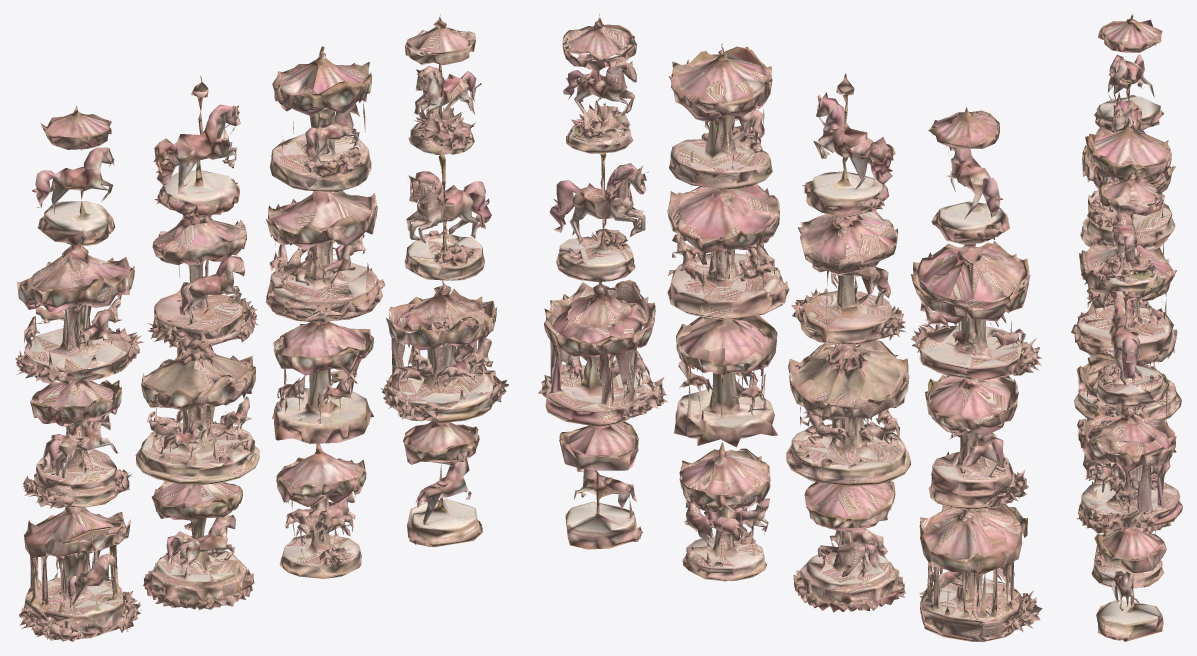
3 views of the same model, side by side, from view 1: azimuth 30°, elevation 25°; view 2: azimuth 150°, elevation 25°; view 3: azimuth 270°, elevation 25° (orthographic). The views are drawn at different scales.
Parts seen in each view (by area): view 1: Mesh 14, Mesh 29, Mesh 22, Mesh 10, Mesh 8, Mesh 23, Mesh 17, Mesh 16, Mesh 19, Mesh 3, Mesh 21, Mesh 25 (+4 smaller); view 2: Mesh 14, Mesh 29, Mesh 10, Mesh 22, Mesh 8, Mesh 23, Mesh 17, Mesh 19, Mesh 16, Mesh 3, Mesh 21, Mesh 27 (+4 smaller); view 3: Mesh 29, Mesh 23, Mesh 22, Mesh 28, Mesh 27, Mesh 25, Mesh 7, Mesh 14, Mesh 19, Mesh 15, Mesh 21, Mesh 10 (+3 smaller).
Part boxes in pixels (x1,y1,x2,y2): Mesh 14: (135,346,259,484); Mesh 29: (381,280,509,422); Mesh 22: (266,190,385,322); Mesh 10: (15,245,143,383); Mesh 8: (19,507,141,641); Mesh 23: (269,46,372,191); Mesh 17: (146,215,258,353); Mesh 16: (143,480,254,610); Mesh 19: (272,321,373,443); Mesh 3: (23,380,131,508); Mesh 21: (276,443,366,578); Mesh 25: (404,154,491,280); Mesh 14: (786,340,910,486); Mesh 29: (538,279,667,426); Mesh 10: (911,241,1041,379); Mesh 22: (667,184,789,319); Mesh 8: (919,503,1042,641); Mesh 23: (668,43,772,189); Mesh 17: (791,210,906,345); Mesh 19: (674,315,777,447); Mesh 16: (793,481,905,612); Mesh 3: (925,375,1028,509); Mesh 21: (679,442,770,581); Mesh 27: (562,14,636,153); Mesh 29: (1077,406,1182,531); Mesh 23: (1085,118,1175,246); Mesh 22: (1071,242,1176,361); Mesh 28: (1094,528,1166,641); Mesh 27: (1097,169,1164,291); Mesh 25: (1095,291,1165,406); Mesh 7: (1094,14,1163,129); Mesh 14: (1074,302,1181,420); Mesh 19: (1076,358,1176,470); Mesh 15: (1094,65,1162,185); Mesh 21: (1091,481,1164,588); Mesh 10: (1080,145,1175,249).
Size of the model in its own units: 1.86 by 1.9 by 0.4189.
16 materials, 16 textured.
